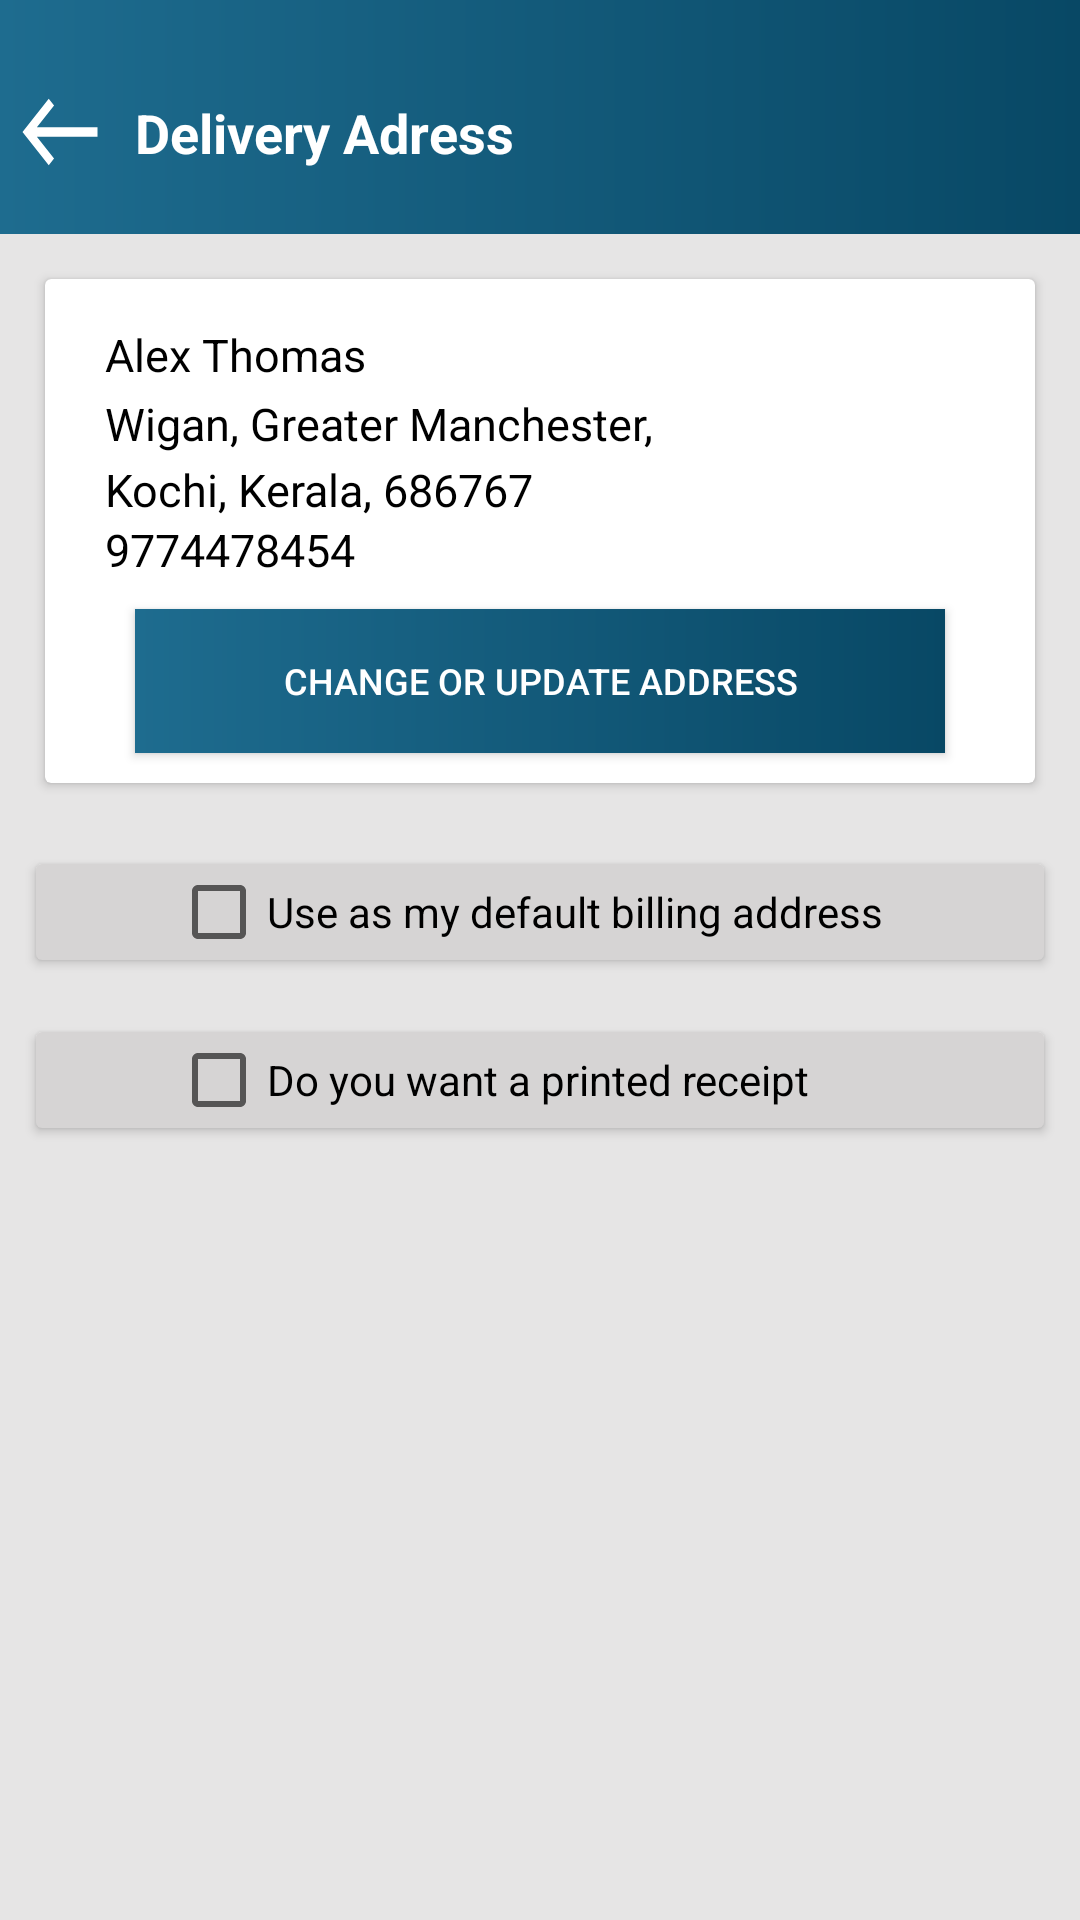

Icon click points for this 1080×1920 phone screenshot, format (x,y):
west: (60,132)
